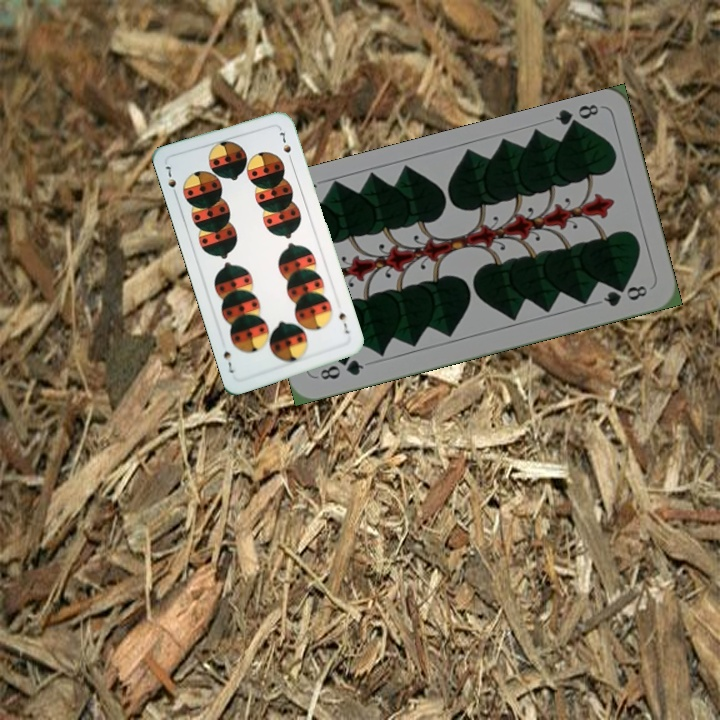G8: (551, 100, 601, 134), (316, 355, 367, 383)
S7: (161, 162, 180, 200), (335, 308, 352, 336)
